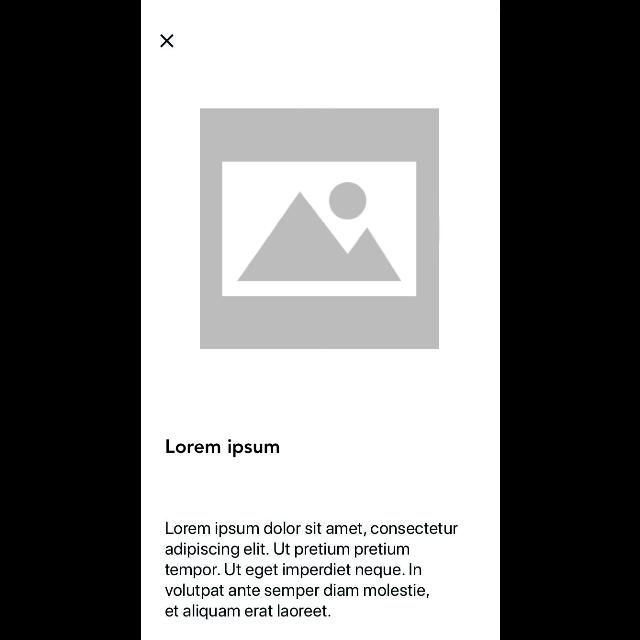icon: (159, 34, 173, 48)
image: (200, 109, 438, 349)
text: (164, 522, 458, 620), (166, 438, 280, 458)
